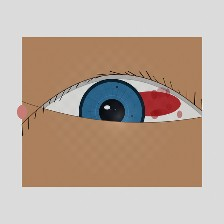hemorrhage_spot: (110, 71, 192, 137)
